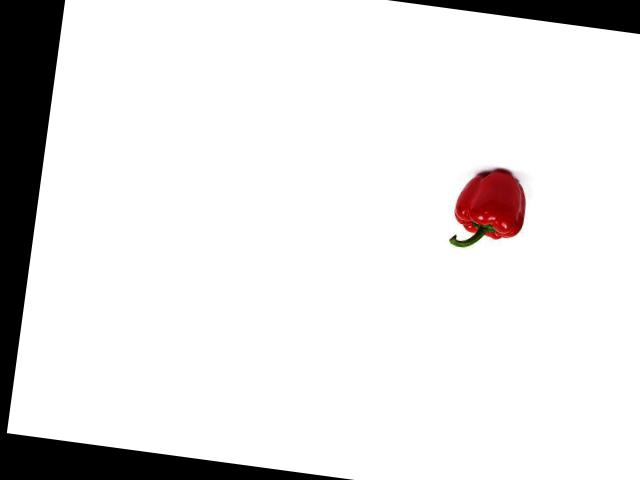bell_pepper: (444, 162, 536, 256)
